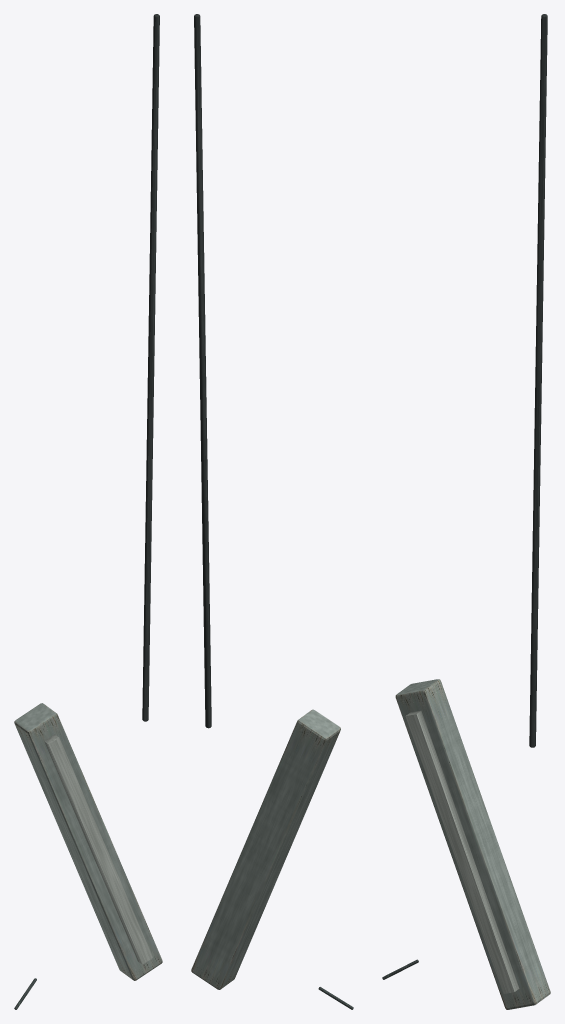
Rendered from hanging_strip.glb.
The picture shows the model from 3 angles, left to right: view 1: azimuth 30°, elevation 25°; view 2: azimuth 150°, elevation 25°; view 3: azimuth 330°, elevation 25°; orthographic projection. The views are drawn at different scales.
Visible parts, largest first — view 1: HangingStrip; view 2: HangingStrip; view 3: HangingStrip.
Boxes of the visible parts, x1,y1,x2,y2 form: HangingStrip: (14,14,162,1009); HangingStrip: (191,14,353,1009); HangingStrip: (382,14,550,1009).
Bounding box in the file's own units: 0.6632 × 4 × 0.155.
Materials: 1 (1 with a texture image).
